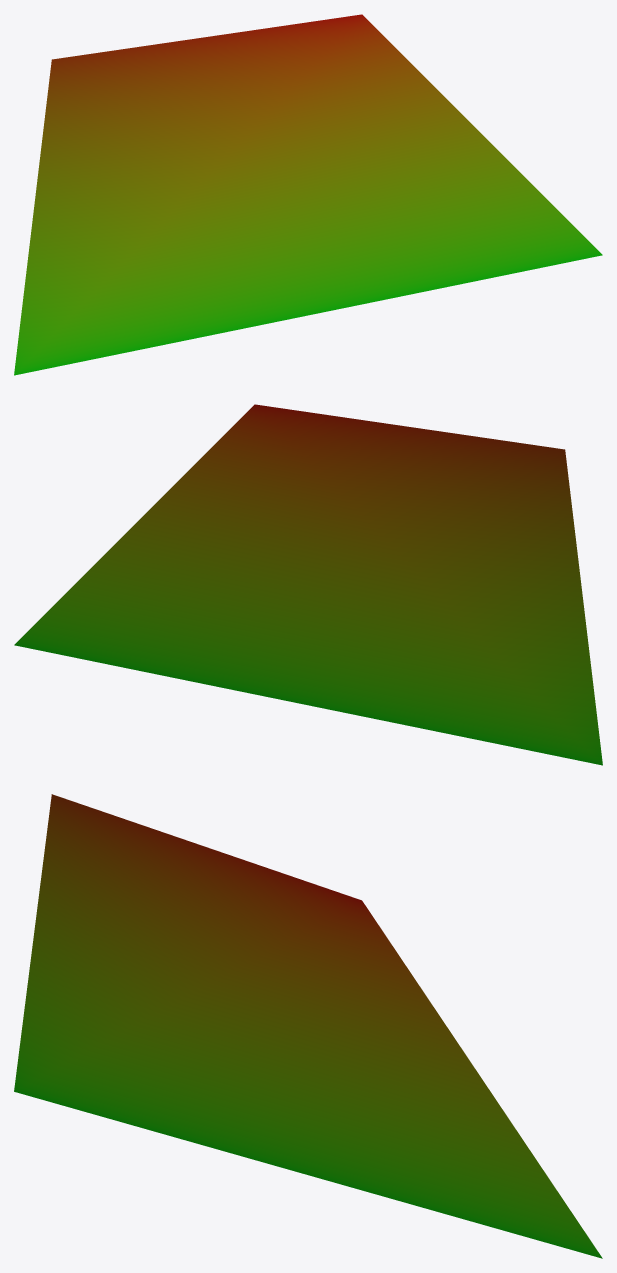
File: Great Brome_LOD5_Var3_tjugaikia.fbx
3 views of the same model, one above another, from view 1: azimuth 30°, elevation 25°; view 2: azimuth 150°, elevation 25°; view 3: azimuth 330°, elevation 25° (orthographic).
Parts seen in each view (by area): view 1: _2aab_Var3_LOD5; view 2: _2aab_Var3_LOD5; view 3: _2aab_Var3_LOD5.
Part boxes in pixels (<box>): _2aab_Var3_LOD5: <box>14,14,602,375</box>; _2aab_Var3_LOD5: <box>14,404,602,765</box>; _2aab_Var3_LOD5: <box>14,794,602,1258</box>.
Bounding box in the file's own units: 60.66 × 32.5 × 5.36e-07.
